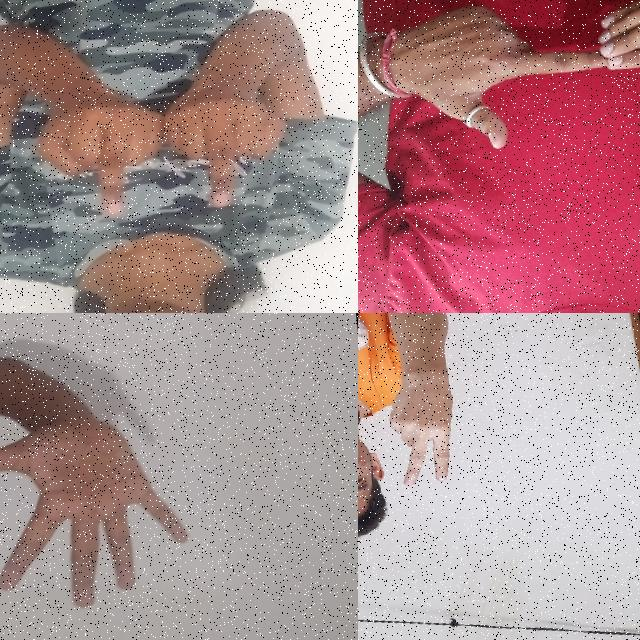Five Fathers: (376, 0, 640, 170)
Middle Finger: (26, 64, 174, 236), (150, 64, 305, 218)
Moutza: (0, 396, 202, 630)
Reversed Victory: (378, 357, 470, 495)
